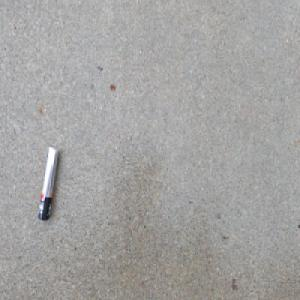Battery: (37, 144, 60, 223)
